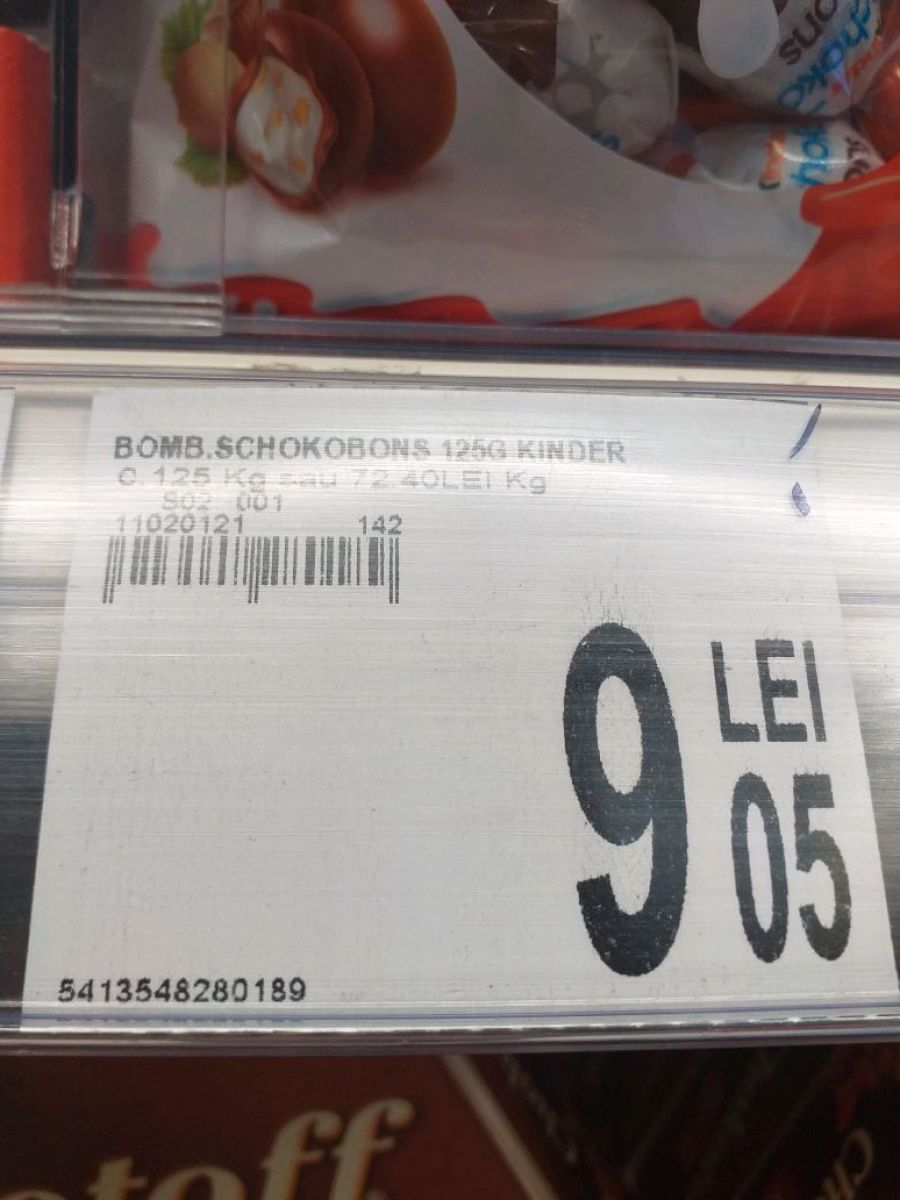price_bani: (708, 754, 860, 975)
price_lei: (521, 610, 700, 985)
price_tag: (3, 361, 900, 1066)
product_id: (47, 971, 323, 1011)
product_name: (104, 430, 650, 465)
